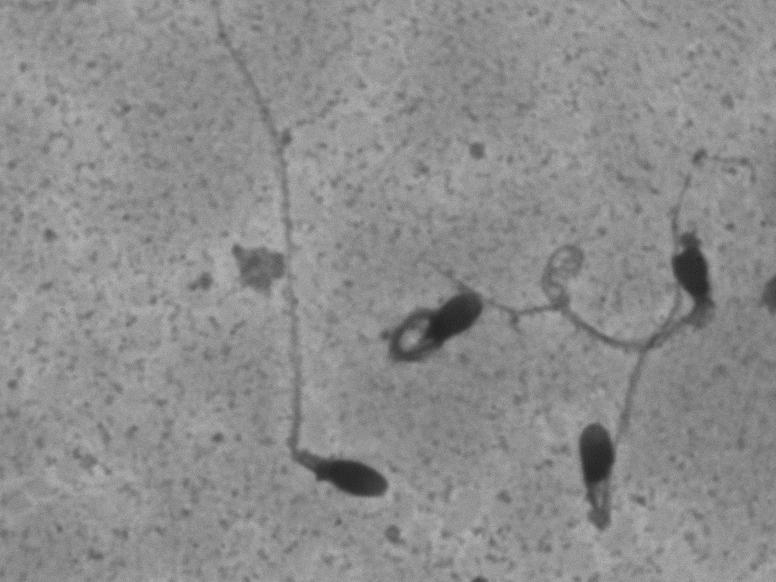Abnormal: (193, 18, 403, 506), (529, 372, 668, 541), (379, 278, 486, 375)
